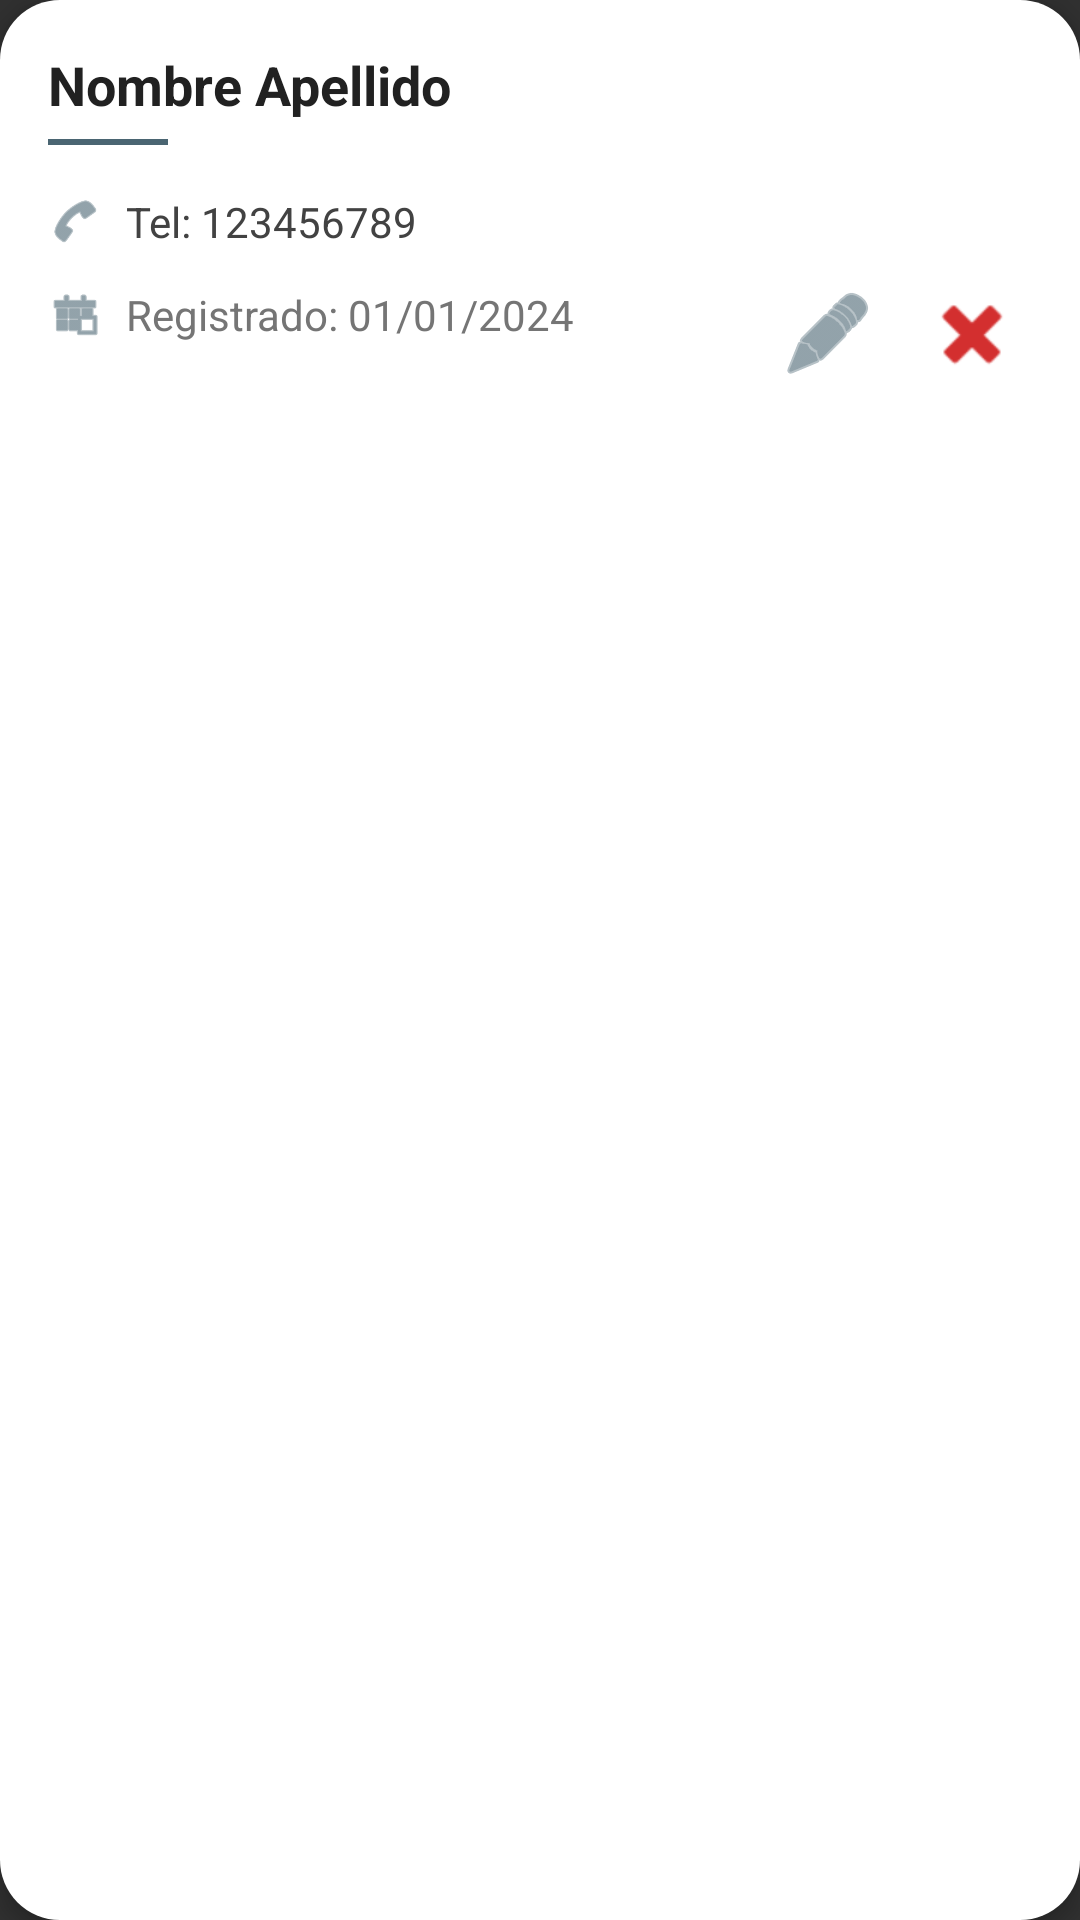

Icons on this 1080 x 1920 Android screen, each with the point to tap as (x,y):
call: (75,221)
Editar: (827,333)
Eliminar: (972,334)
today: (75,314)
